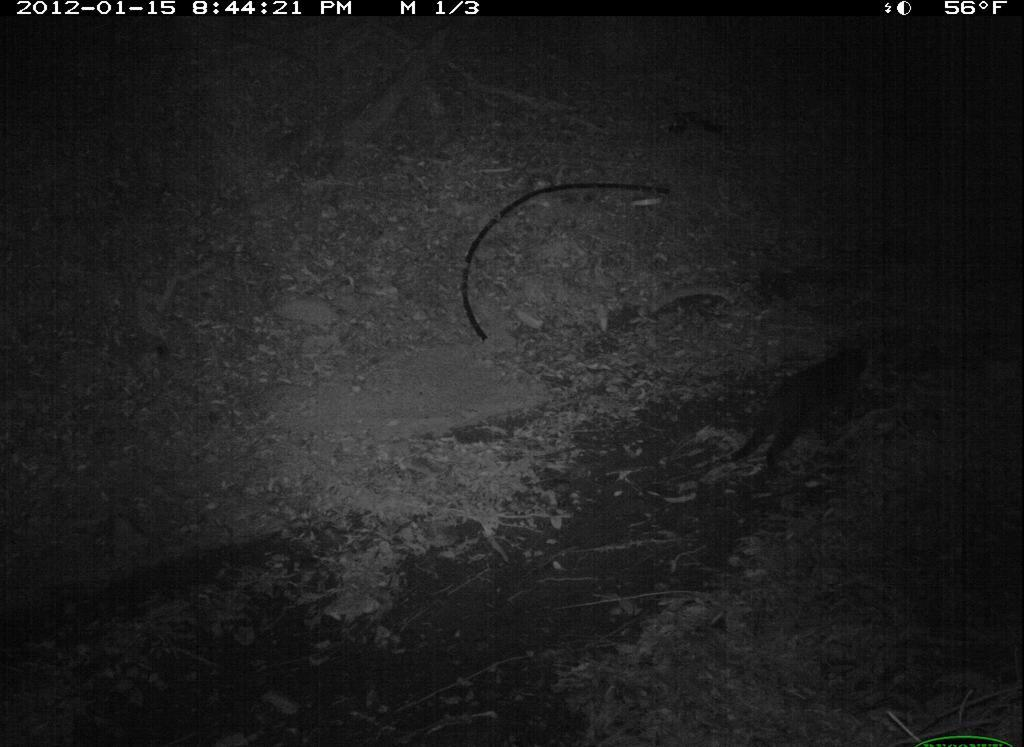cat: (720, 337, 870, 486)
